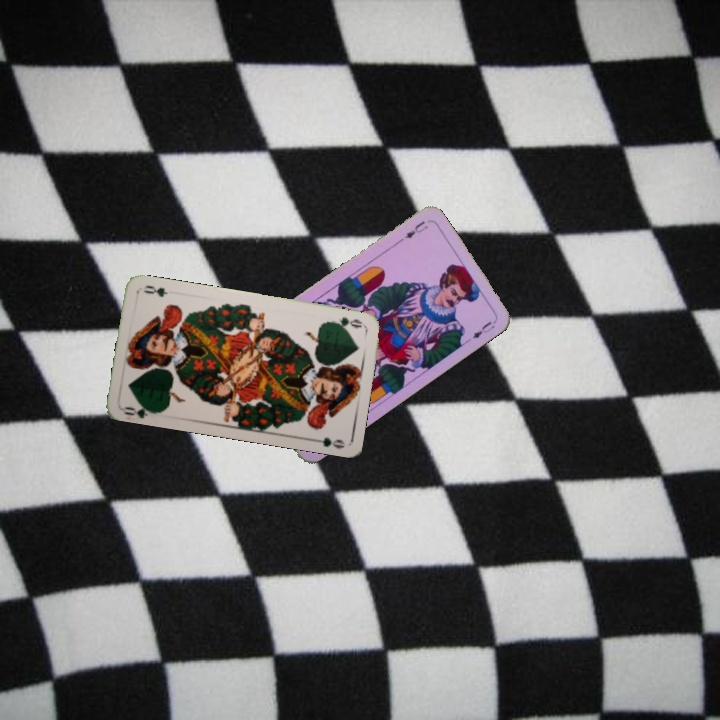EU: (400, 217, 430, 241)
GO: (119, 399, 161, 420), (325, 313, 365, 331)
